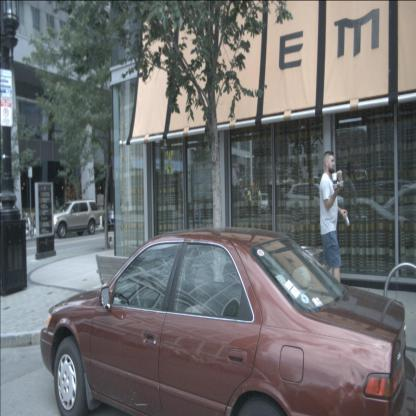human-pedestrian-adult: (314, 150, 350, 312), (55, 195, 60, 216)
vehicle-bicycle: (22, 212, 34, 237)
vehicle-car: (40, 226, 406, 416), (292, 197, 414, 270), (285, 182, 345, 222), (46, 199, 101, 239), (370, 178, 416, 222), (102, 198, 143, 231), (254, 192, 271, 214)
